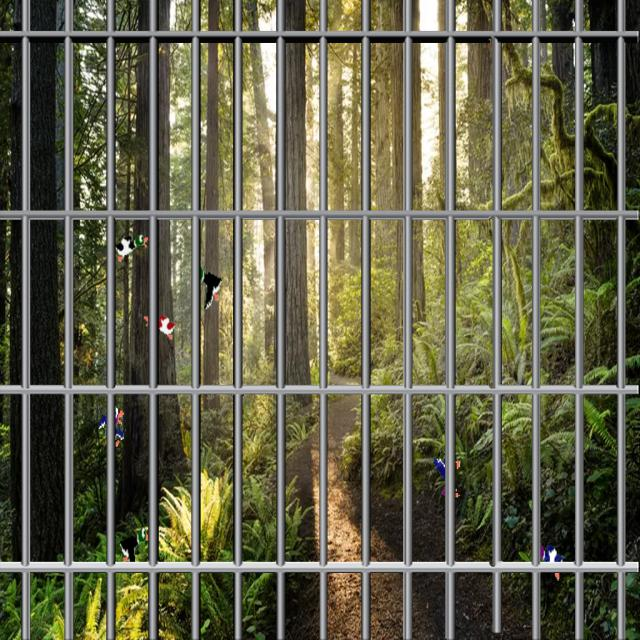duck: (110, 225, 151, 268), (434, 444, 466, 497), (121, 519, 152, 569), (196, 258, 224, 312), (145, 306, 181, 348), (536, 540, 566, 589)
falling_duck: (99, 399, 127, 448)
